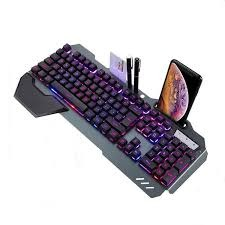keyboard: (18, 28, 211, 202)
